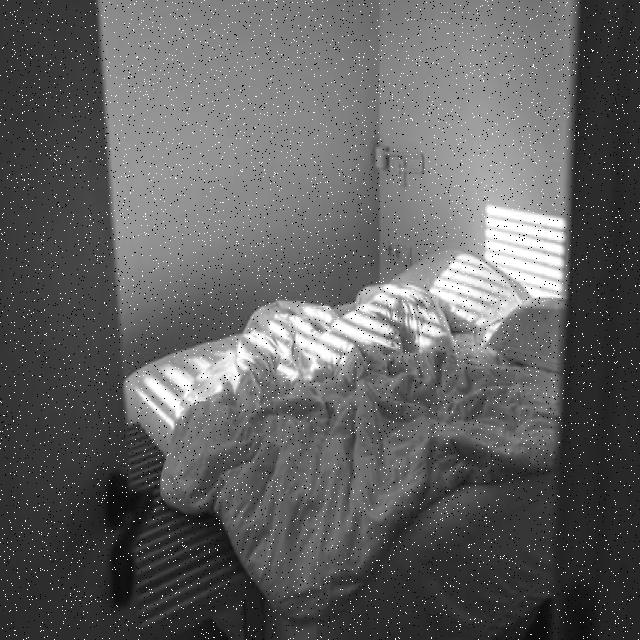bed: (130, 235, 564, 640)
